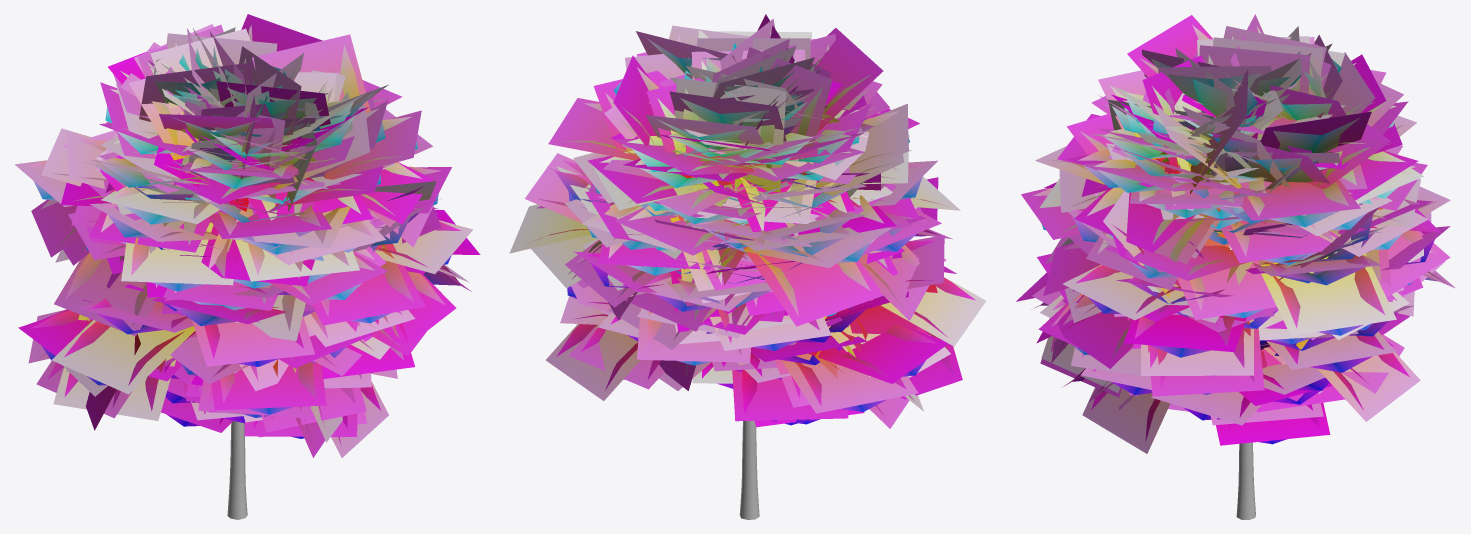
File: oak_01_3.fbx
The picture shows the model from 3 angles, left to right: view 1: azimuth 30°, elevation 25°; view 2: azimuth 150°, elevation 25°; view 3: azimuth 270°, elevation 25°; orthographic projection.
Visible parts, largest first — view 1: oak_leaves_01_3_shadow, oak_leaves_01_3_lod_0, oak_tree_01_3_lod_0; view 2: oak_leaves_01_3_shadow, oak_leaves_01_3_lod_0, oak_tree_01_3_lod_0; view 3: oak_leaves_01_3_shadow, oak_leaves_01_3_lod_0, oak_tree_01_3_lod_0.
Part boxes in pixels (bbox=[...]): oak_leaves_01_3_shadow: bbox=[15, 14, 480, 457]; oak_leaves_01_3_lod_0: bbox=[27, 25, 461, 445]; oak_tree_01_3_lod_0: bbox=[227, 421, 247, 519]; oak_leaves_01_3_shadow: bbox=[509, 14, 985, 428]; oak_leaves_01_3_lod_0: bbox=[528, 30, 975, 425]; oak_tree_01_3_lod_0: bbox=[739, 420, 759, 519]; oak_leaves_01_3_shadow: bbox=[1016, 14, 1455, 453]; oak_leaves_01_3_lod_0: bbox=[1030, 25, 1444, 444]; oak_tree_01_3_lod_0: bbox=[1236, 442, 1255, 519].
Size of what is drawn, in the model's own units: 9.31 by 10.4 by 8.96.
